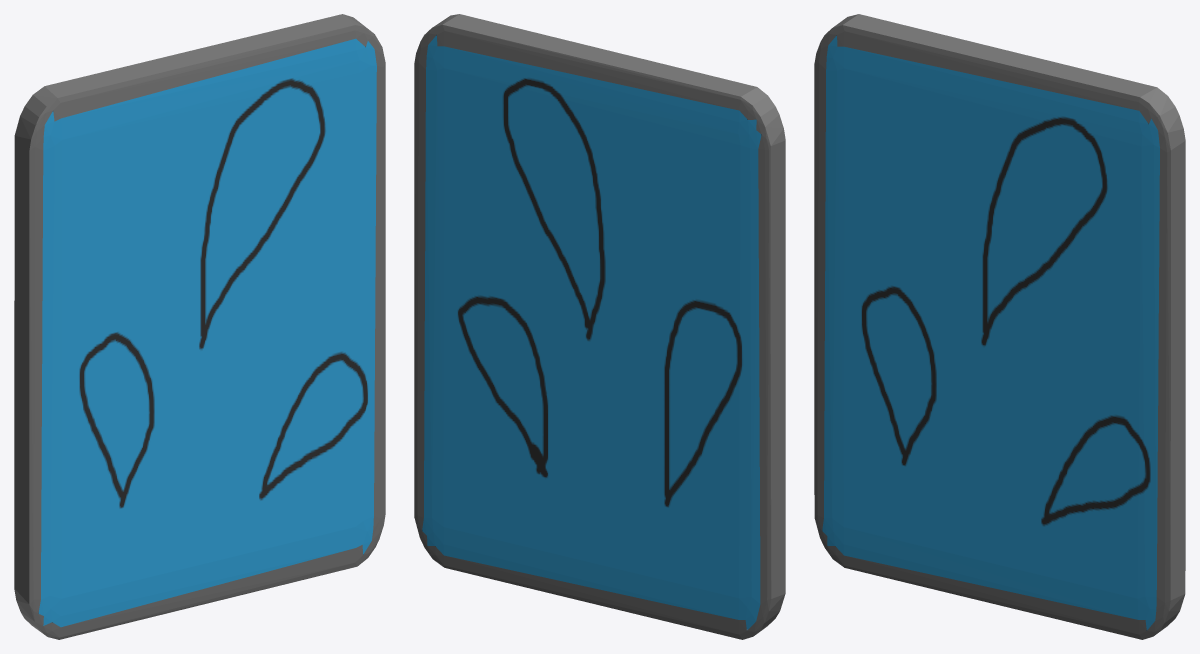
Rendered from SpellCard.obj.
3 views of the same model, side by side, from view 1: azimuth 30°, elevation 25°; view 2: azimuth 150°, elevation 25°; view 3: azimuth 330°, elevation 25° (orthographic).
Parts seen in each view (by area): view 1: 立方体; view 2: 立方体; view 3: 立方体.
Part boxes in pixels (bbox=[...]): 立方体: bbox=[14, 14, 385, 639]; 立方体: bbox=[414, 14, 785, 639]; 立方体: bbox=[814, 14, 1185, 639].
Bounding box in the file's own units: 2.21 × 3.22 × 0.1911.
Materials: 1 (1 with a texture image).
